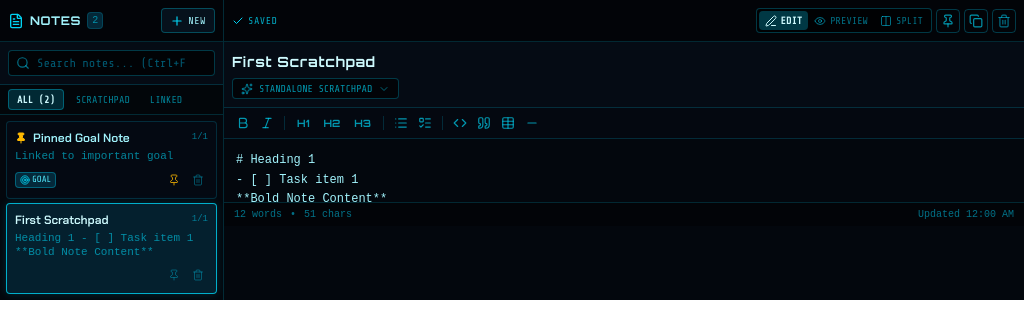
Test case: NotesView Component › filters notes by tab: Standalone vs Linked
expect the text "Pinned Goal Note" is shown: met, box [33,130,130,146]
expect the text "First Scratchpad" is shown: met, box [15,212,109,228]
Note: Click SCRATCHPAD filter tab
Click the button "SCRATCHPAD" at (103, 100), box [68,90,138,109]
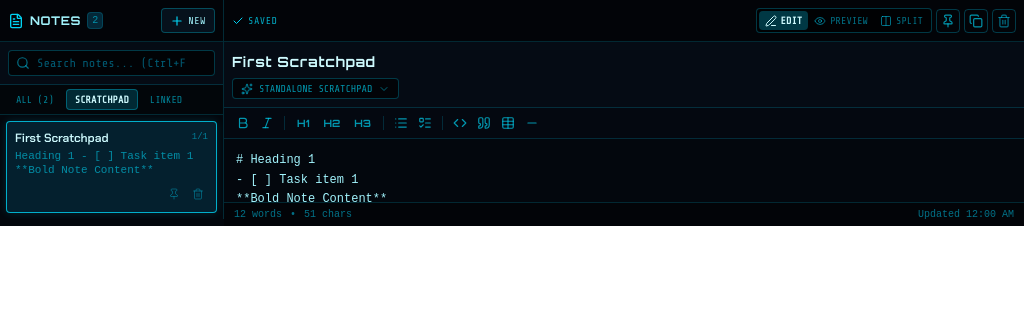
expect the text "First Scratchpad" is shown: met, box [15,130,109,146]
expect the text "Pinned Goal Note" is gone: met
Note: Click LINKED filter tab
Click the button "LINKED" at (166, 100), box [142,90,190,109]
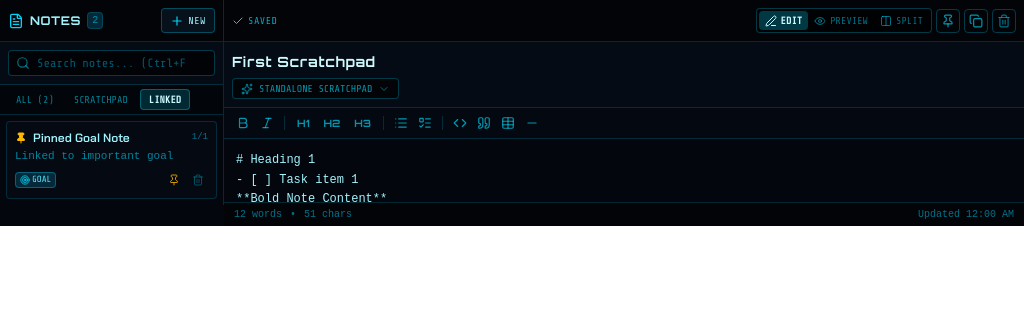
expect the text "Pinned Goal Note" is shown: met, box [33,130,130,146]
